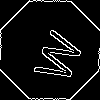W: (25, 25, 85, 86)
